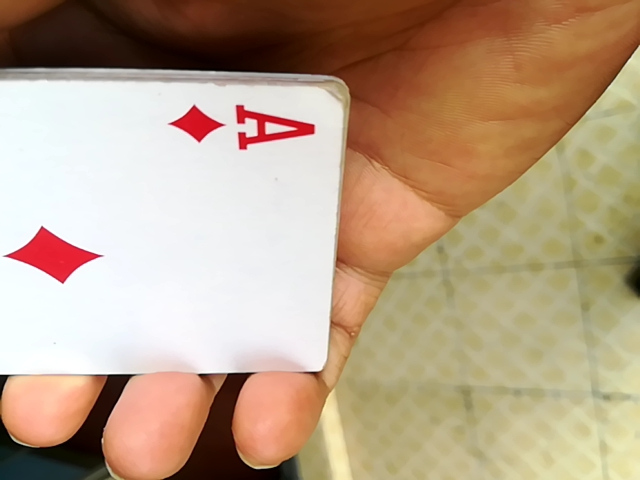fk a: (0, 68, 355, 378)
